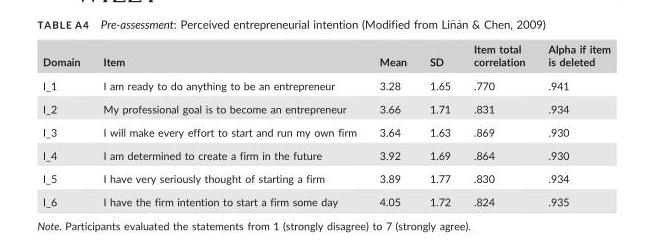table: (42, 42, 609, 207)
table column: (90, 42, 367, 207), (461, 42, 536, 207), (536, 42, 609, 207), (367, 42, 417, 207), (42, 42, 90, 207), (417, 42, 461, 207)
table column header: (42, 42, 609, 73)
table row: (42, 42, 609, 73), (42, 119, 609, 143), (42, 73, 609, 96), (42, 96, 609, 119), (42, 143, 609, 166), (42, 166, 609, 189), (42, 189, 609, 207)
